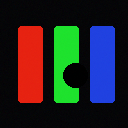2 circle: (63, 63, 87, 87)
